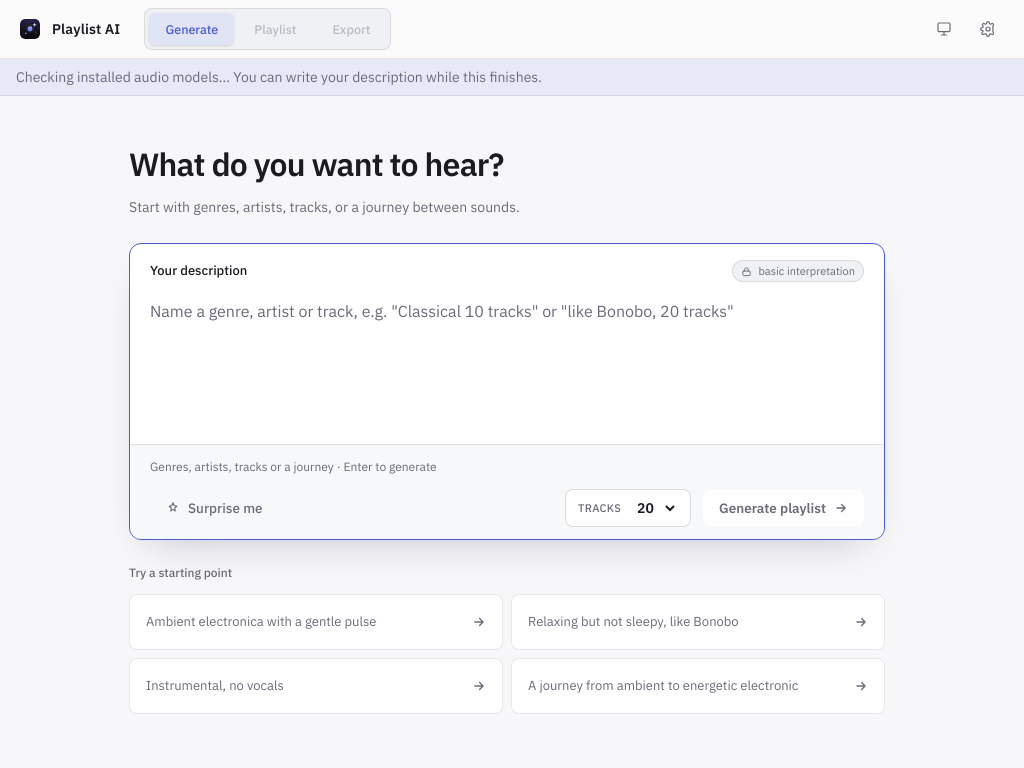
Test: keeps generation blocked when model validation cannot finish and allows retry
Replace the text in the text box labelled "Your description" with "Ambient electronica" at point(507, 363), box 130,282 -> 884,444
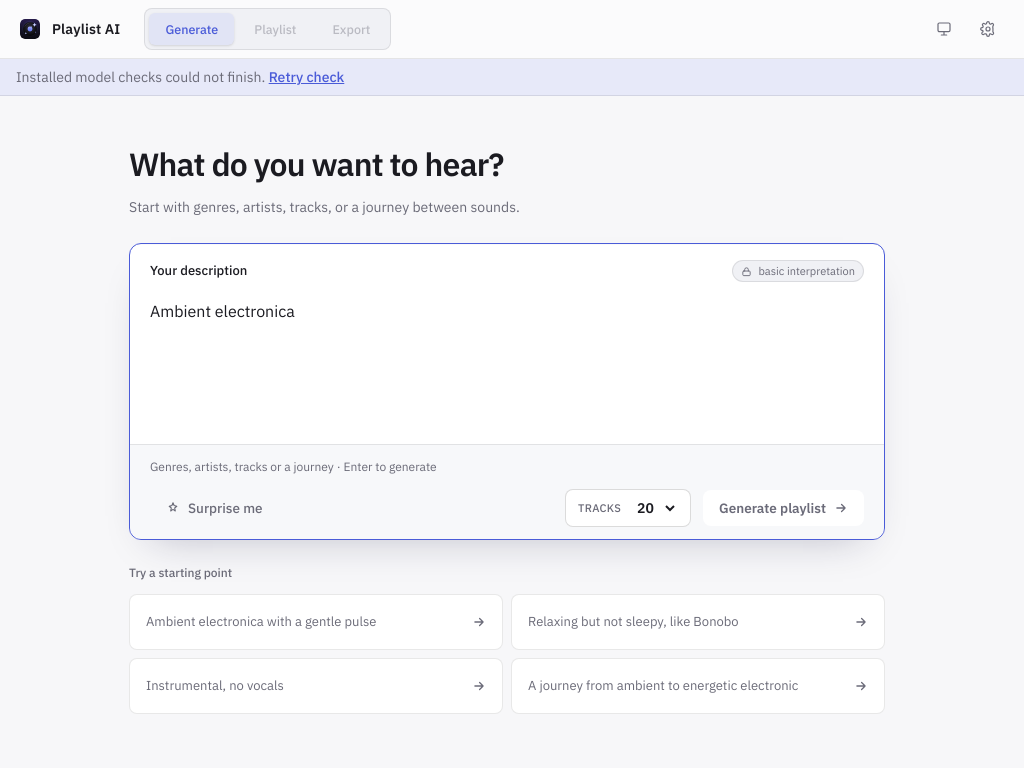
Click the button "Retry check" at point(306, 77), box 269,67 -> 344,87
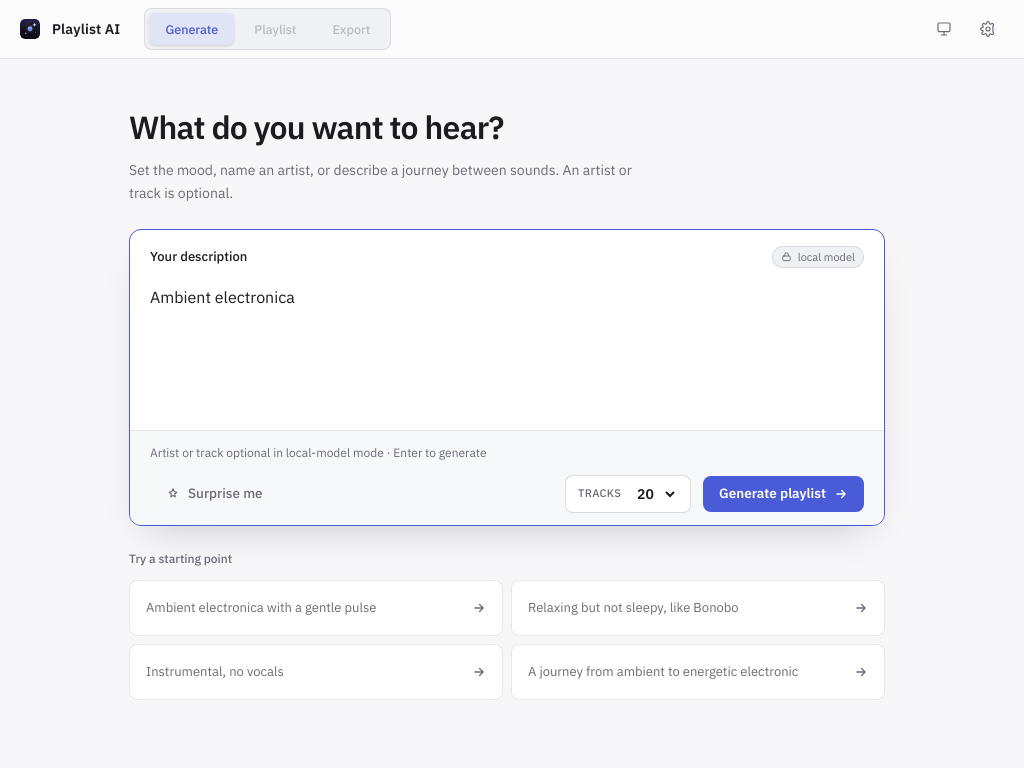
Now the button "Generate playlist" is enabled, box 703,476 -> 864,512
